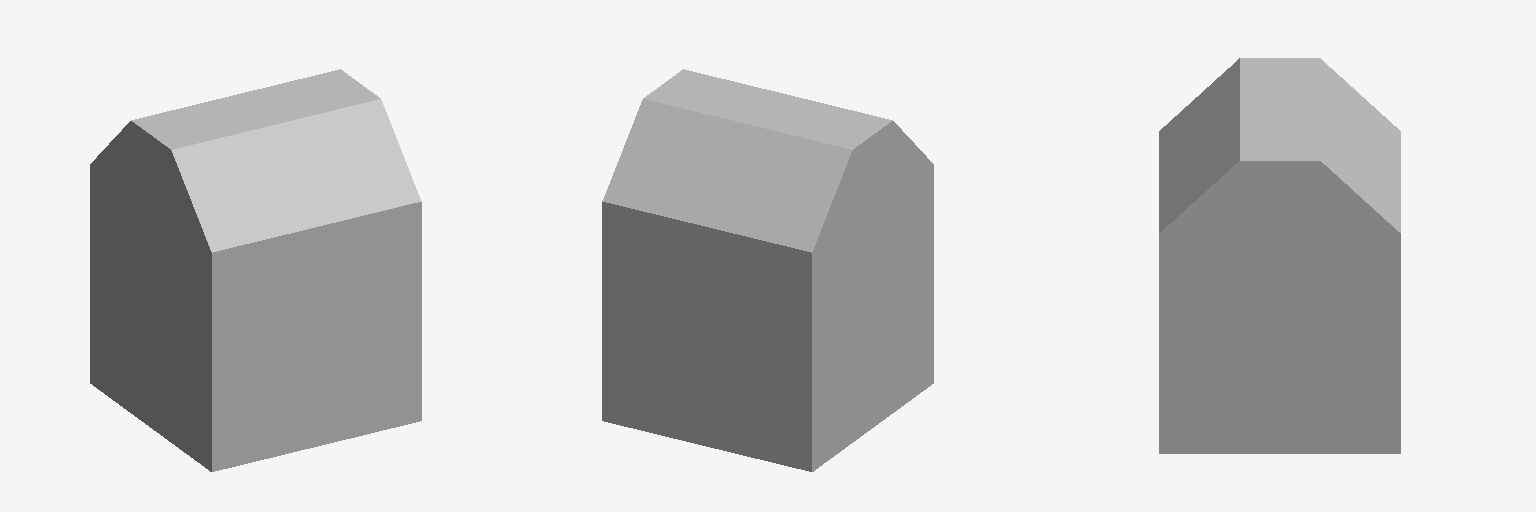
File: House1.obj
3 views of the same model, side by side, from view 1: azimuth 30°, elevation 25°; view 2: azimuth 150°, elevation 25°; view 3: azimuth 270°, elevation 25° (orthographic).
Visible parts, largest first — view 1: Plane.039_Plane.052, Plane.041_Plane.042, Plane.040_Plane.053, Plane.013, Plane.008, Plane.012, Plane.024, Plane.026, Plane.030, Plane.031, Plane.009, Plane.032 (+15 smaller); view 2: Plane.037_Plane.055, Plane.036_Plane.054, Plane.038_Plane.056, Plane.011, Plane.001, Plane.010, Plane.020, Plane.025, Plane.033, Plane.034, Plane.002, Plane.035 (+15 smaller); view 3: Plane.014, Plane.018, Plane.016, Plane.015, Plane.019, Plane.027, Plane.029, Plane.017, Plane.028, Plane.045_Plane.046, Plane.046_Plane.047, Plane.047_Plane.048 (+9 smaller).
Part boxes in pixels (x1,y1,x2,y2): Plane.039_Plane.052: (241, 116, 351, 234); Plane.041_Plane.042: (171, 133, 281, 252); Plane.040_Plane.053: (311, 99, 421, 217); Plane.013: (352, 275, 421, 364); Plane.008: (212, 382, 281, 471); Plane.012: (352, 348, 421, 437); Plane.024: (212, 236, 281, 325); Plane.026: (352, 202, 421, 291); Plane.030: (282, 365, 351, 454); Plane.031: (282, 292, 351, 381); Plane.009: (212, 309, 281, 398); Plane.032: (282, 219, 351, 308); Plane.037_Plane.055: (672, 116, 782, 234); Plane.036_Plane.054: (602, 99, 712, 217); Plane.038_Plane.056: (742, 133, 852, 252); Plane.011: (602, 275, 671, 364); Plane.001: (742, 382, 811, 471); Plane.010: (602, 348, 671, 437); Plane.020: (742, 236, 811, 325); Plane.025: (602, 202, 671, 291); Plane.033: (672, 365, 741, 454); Plane.034: (672, 292, 741, 381); Plane.002: (742, 309, 811, 398); Plane.035: (672, 219, 741, 308); Plane.014: (1159, 380, 1239, 453); Plane.018: (1320, 380, 1400, 453); Plane.016: (1240, 380, 1319, 453); Plane.015: (1159, 307, 1239, 379); Plane.019: (1320, 307, 1400, 379); Plane.027: (1159, 234, 1239, 306); Plane.029: (1320, 234, 1400, 306); Plane.017: (1240, 307, 1319, 379); Plane.028: (1240, 234, 1319, 306); Plane.045_Plane.046: (1240, 161, 1319, 233); Plane.046_Plane.047: (1159, 161, 1239, 233); Plane.047_Plane.048: (1320, 161, 1400, 233).
Bounding box in the file's own units: 6 × 8 × 6.